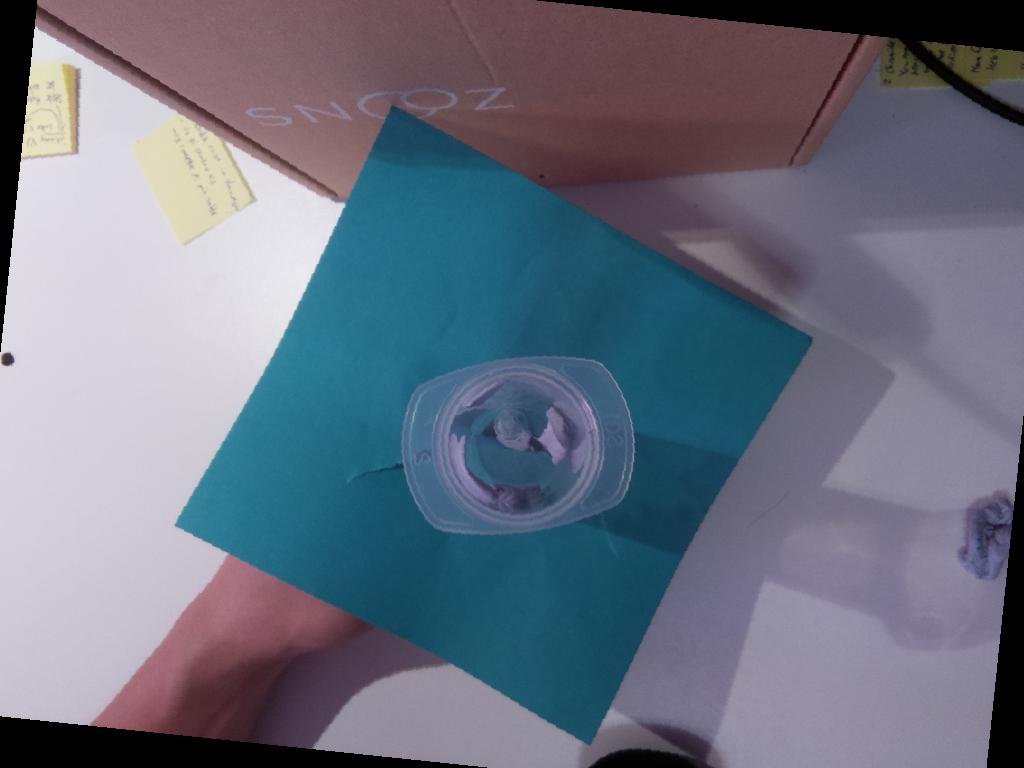dirty: (401, 356, 634, 535)
